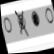correct: (28, 7, 43, 33)
not correct: (13, 6, 32, 42)
